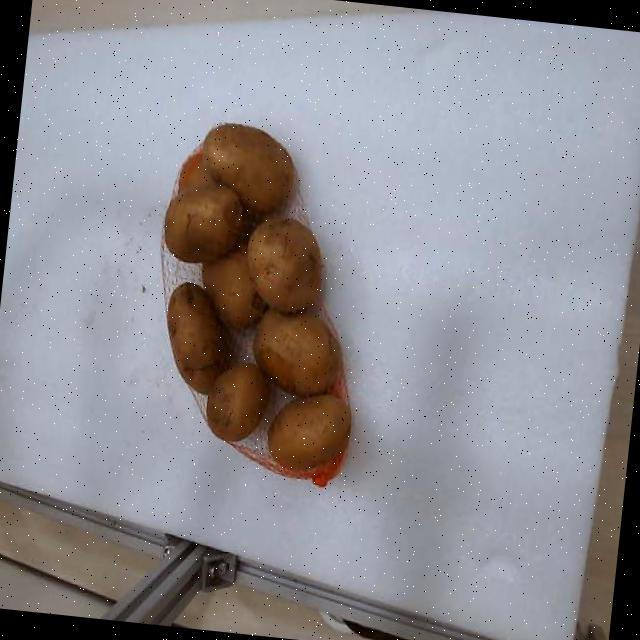potato: (202, 123, 294, 213), (253, 309, 340, 395), (248, 218, 322, 311), (167, 282, 224, 393), (268, 394, 351, 469), (165, 183, 243, 262), (201, 245, 266, 329), (207, 363, 268, 441), (178, 148, 214, 191)
